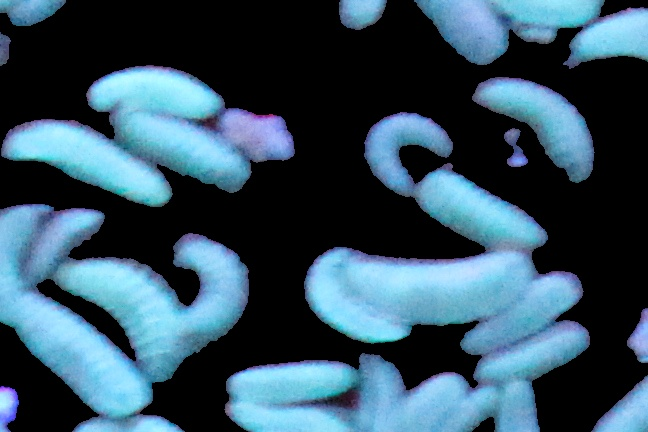larvae: (16, 290, 150, 417), (56, 253, 181, 382), (2, 121, 173, 207), (342, 251, 533, 324), (474, 76, 593, 182), (113, 113, 252, 193), (413, 166, 547, 247), (467, 266, 581, 357), (302, 251, 408, 342), (173, 233, 249, 348), (366, 109, 455, 193), (472, 324, 588, 384), (402, 1, 508, 63), (90, 66, 225, 114), (1, 206, 48, 326), (27, 208, 107, 275), (223, 361, 355, 401), (567, 9, 648, 67), (393, 376, 470, 432), (221, 402, 349, 430), (373, 360, 412, 432), (434, 388, 496, 432), (497, 382, 544, 432), (355, 356, 381, 432)
